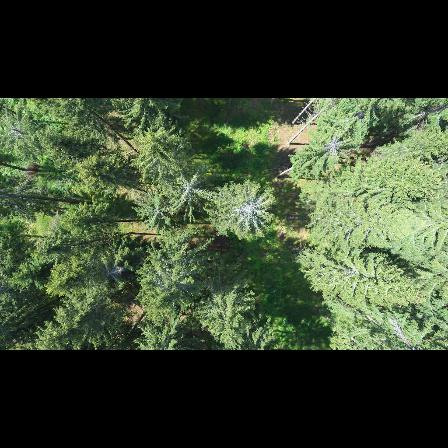Sick: (221, 182, 276, 240), (161, 162, 222, 211), (92, 252, 131, 291), (319, 126, 349, 160)
